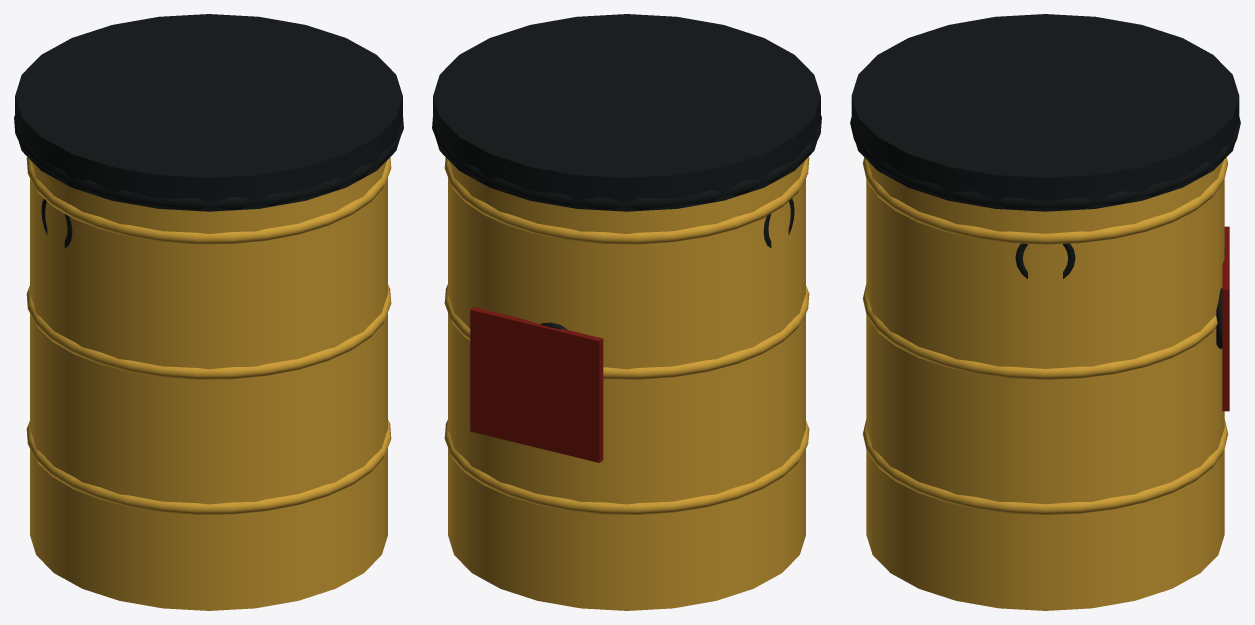
Rendered from BioBin.obj.
The picture shows the model from 3 angles, left to right: view 1: azimuth 30°, elevation 25°; view 2: azimuth 150°, elevation 25°; view 3: azimuth 270°, elevation 25°; orthographic projection.
Visible parts, largest first — view 1: BioBin; view 2: BioBin; view 3: BioBin.
Boxes of the visible parts, bbox=[...] form: BioBin: bbox=[14, 14, 403, 610]; BioBin: bbox=[432, 14, 821, 610]; BioBin: bbox=[850, 14, 1240, 610].
Size of the model in its own units: 0.524 by 0.65 by 0.524.
